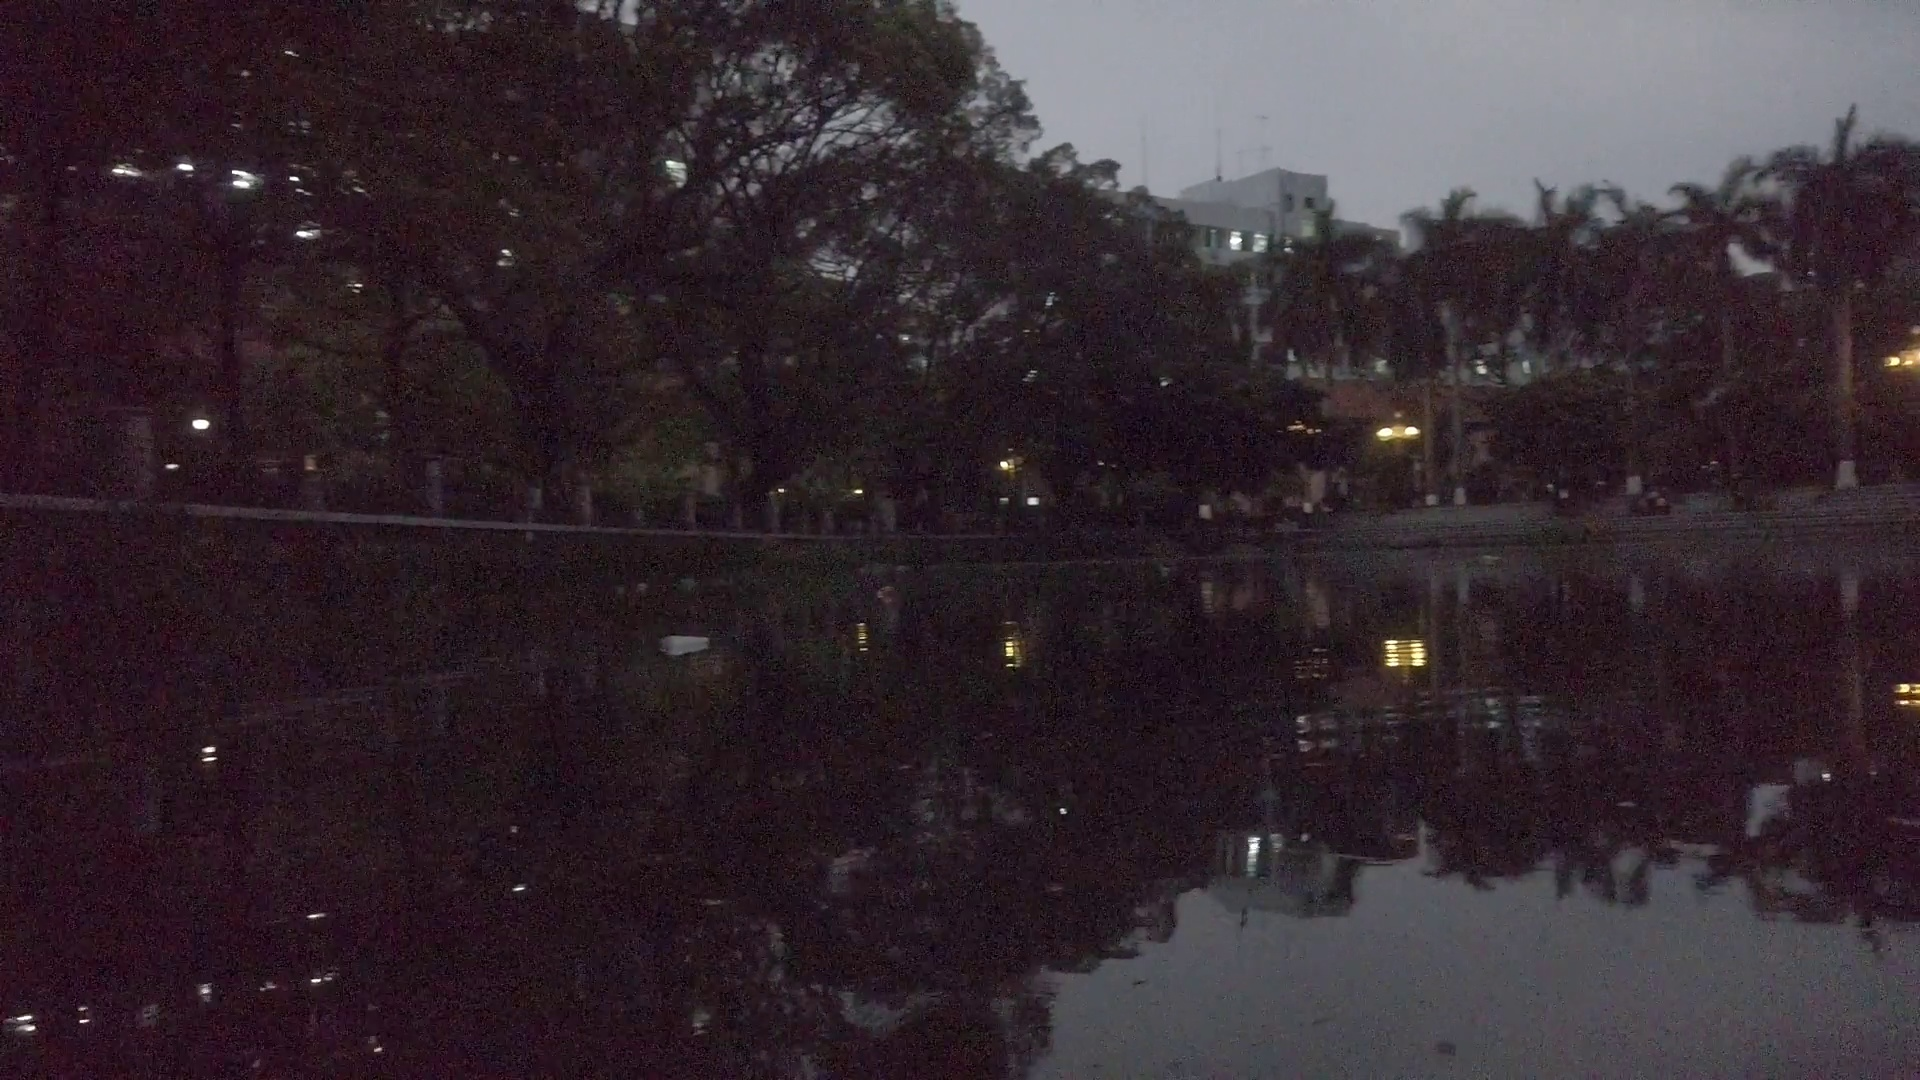bottle: (1474, 549, 1506, 568), (874, 583, 902, 603)
carton: (662, 632, 715, 654)
